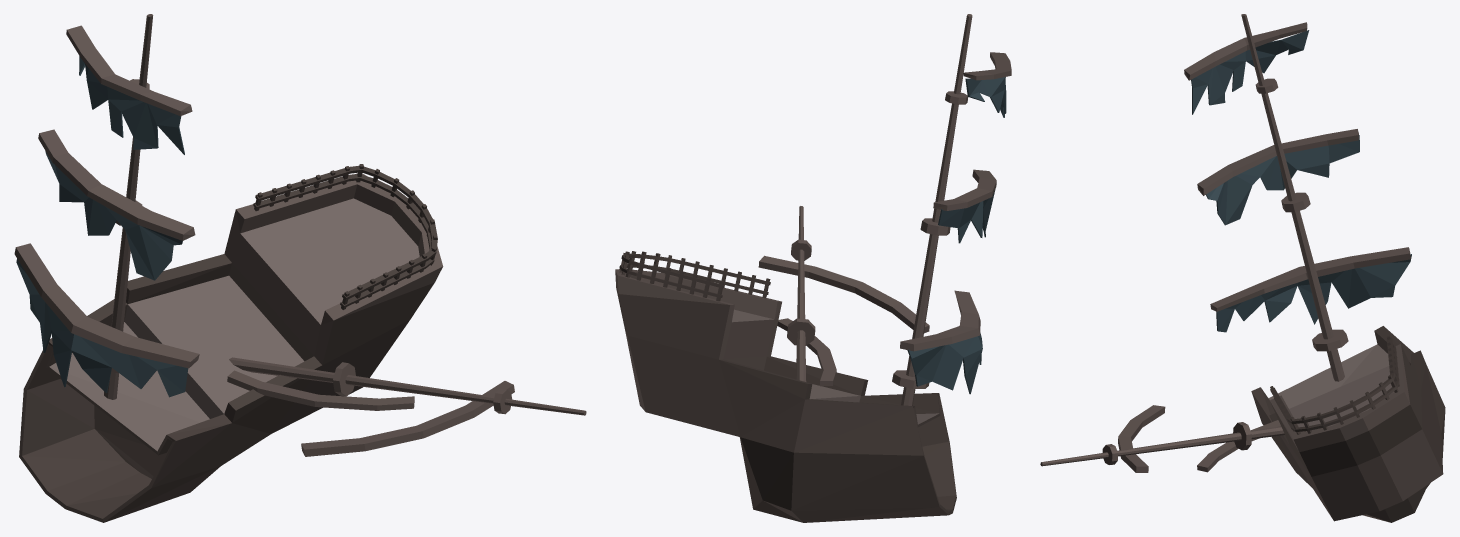
The model's file is sunken-ship.glb.
3 views of the same model, side by side, from view 1: azimuth 30°, elevation 25°; view 2: azimuth 150°, elevation 25°; view 3: azimuth 270°, elevation 25° (orthographic). The views are drawn at different scales.
Parts seen in each view (by area): view 1: Ship_014; view 2: Ship_014; view 3: Ship_014.
Part boxes in pixels (left/top/right/bottom): Ship_014: left=14, top=14, right=586, bottom=522; Ship_014: left=615, top=14, right=1011, bottom=522; Ship_014: left=1040, top=14, right=1445, bottom=522.
Size of what is drawn, in the model's own units: 9.21 by 12.42 by 10.02.
Materials: 1 (1 with a texture image).
